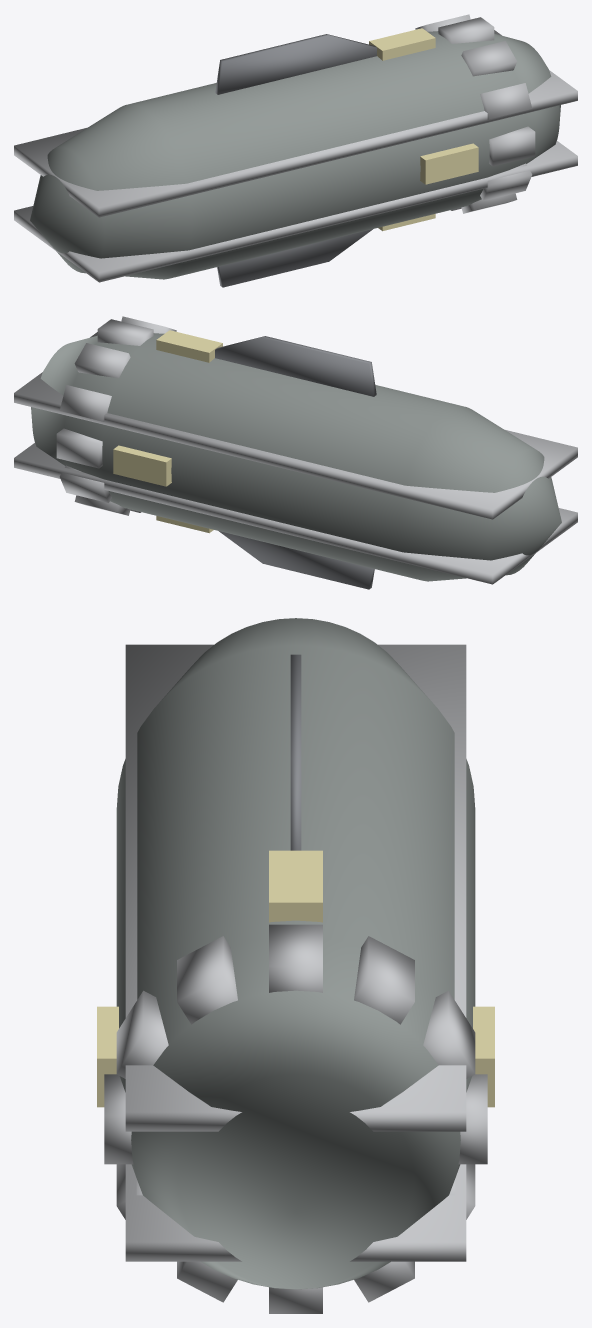
Rendered from RU_MINE_MDM6_LOD0.fbx.
The picture shows the model from 3 angles, top to bottom: view 1: azimuth 30°, elevation 25°; view 2: azimuth 150°, elevation 25°; view 3: azimuth 270°, elevation 25°; orthographic projection. The views are drawn at different scales.
Visible parts, largest first — view 1: WPN_RU_MINE_MDM6_LOD0_Body, WPN_RU_MINE_MDM6_LOD0_Detail, WPN_RU_MINE_MDM6_LOD0_Marking; view 2: WPN_RU_MINE_MDM6_LOD0_Body, WPN_RU_MINE_MDM6_LOD0_Detail, WPN_RU_MINE_MDM6_LOD0_Marking; view 3: WPN_RU_MINE_MDM6_LOD0_Body, WPN_RU_MINE_MDM6_LOD0_Detail, WPN_RU_MINE_MDM6_LOD0_Marking.
Boxes of the visible parts, x1=… form: WPN_RU_MINE_MDM6_LOD0_Body: x1=30, y1=31, x2=560, y2=279; WPN_RU_MINE_MDM6_LOD0_Detail: x1=14, y1=14, x2=577, y2=287; WPN_RU_MINE_MDM6_LOD0_Marking: x1=369, y1=28, x2=478, y2=231; WPN_RU_MINE_MDM6_LOD0_Body: x1=31, y1=333, x2=561, y2=581; WPN_RU_MINE_MDM6_LOD0_Detail: x1=14, y1=316, x2=577, y2=589; WPN_RU_MINE_MDM6_LOD0_Marking: x1=113, y1=330, x2=222, y2=533; WPN_RU_MINE_MDM6_LOD0_Body: x1=116, y1=618, x2=475, y2=1289; WPN_RU_MINE_MDM6_LOD0_Detail: x1=104, y1=644, x2=487, y2=1313; WPN_RU_MINE_MDM6_LOD0_Marking: x1=97, y1=850, x2=494, y2=1107.
Size of the model in its own units: 2.4 by 0.777 by 0.973.
